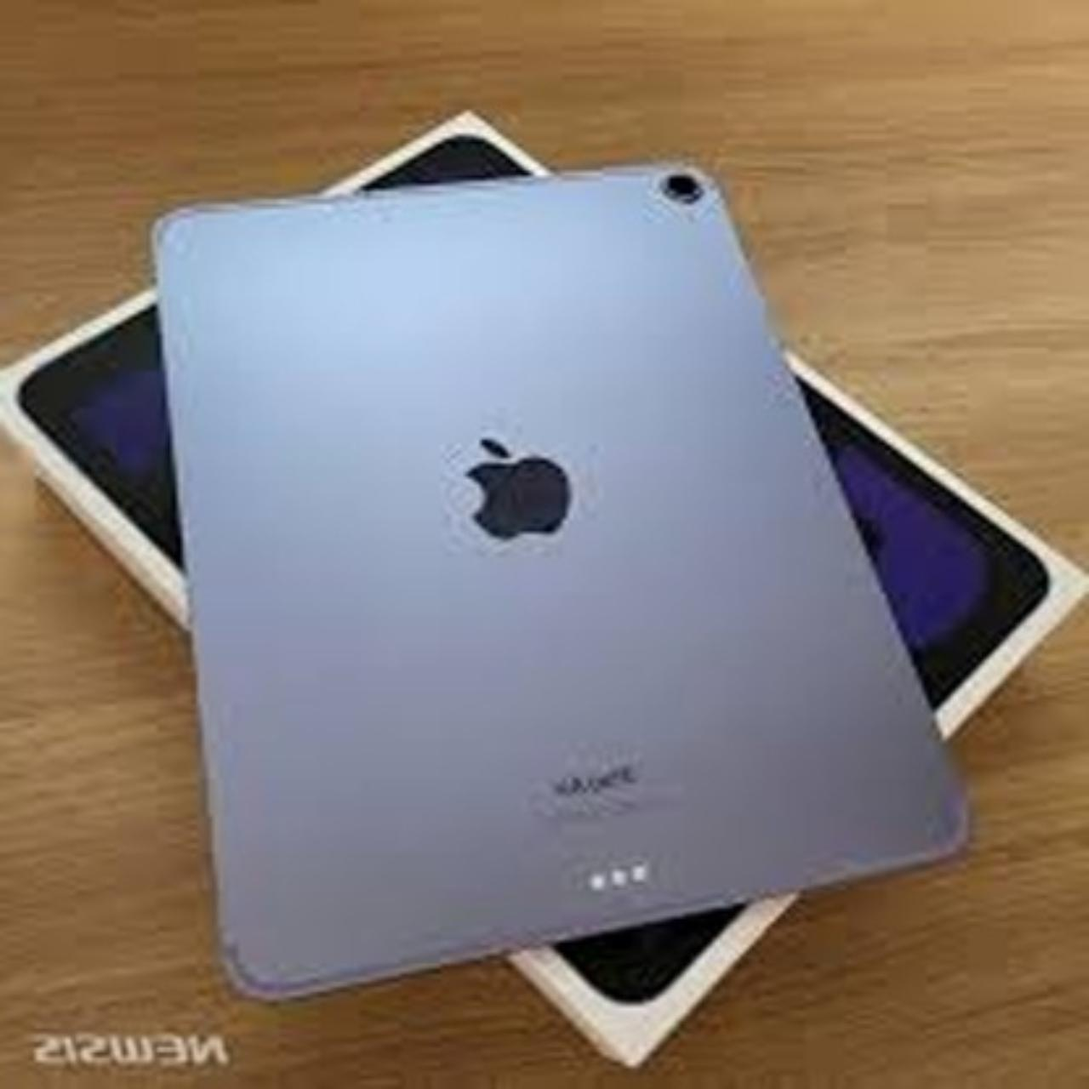Tablet_PC: (137, 146, 976, 1031)
